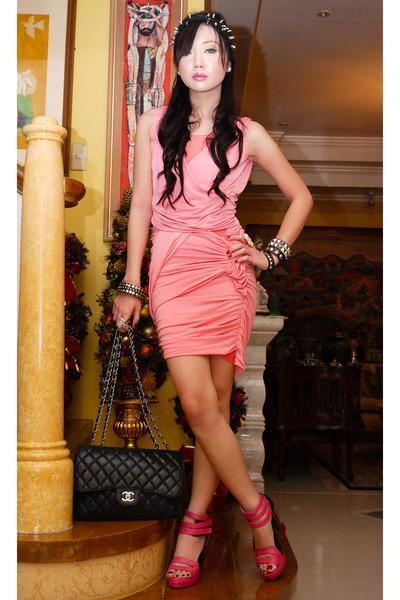dress: (145, 103, 262, 373)
